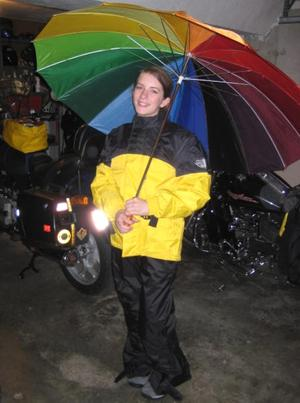person: (91, 64, 212, 398)
